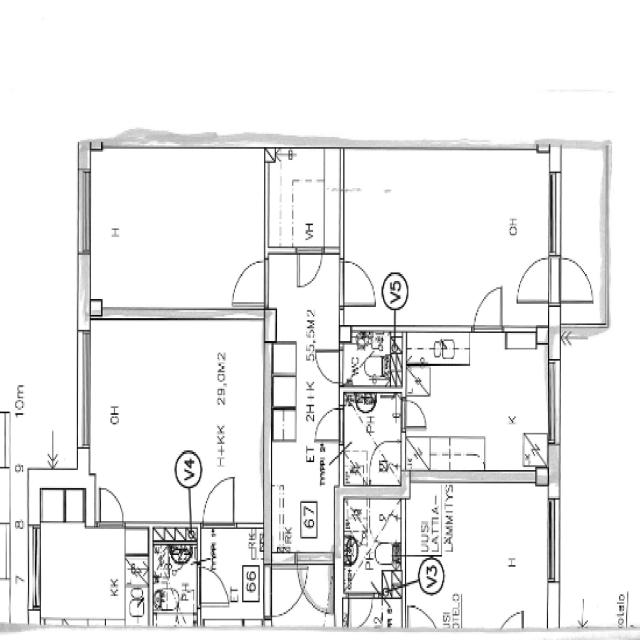door: (269, 561, 310, 618), (200, 472, 240, 528), (338, 254, 378, 308), (228, 255, 268, 309), (513, 251, 553, 305), (557, 254, 595, 306), (471, 281, 507, 333), (96, 483, 128, 529), (197, 564, 230, 608), (294, 245, 324, 291), (310, 404, 344, 444), (346, 592, 379, 631), (313, 346, 344, 386), (401, 396, 430, 431), (498, 608, 527, 634)
window: (74, 329, 95, 452), (72, 162, 96, 262), (544, 165, 566, 260), (543, 355, 564, 448), (544, 494, 562, 586), (28, 524, 44, 612), (204, 618, 247, 630)
zone: (85, 316, 267, 526), (340, 147, 555, 324), (86, 144, 268, 318), (403, 474, 552, 632), (266, 249, 341, 560), (403, 334, 552, 475), (32, 523, 147, 628), (265, 146, 343, 252), (200, 526, 265, 624), (341, 494, 403, 595), (340, 387, 403, 486), (151, 526, 199, 628), (339, 327, 394, 388)
